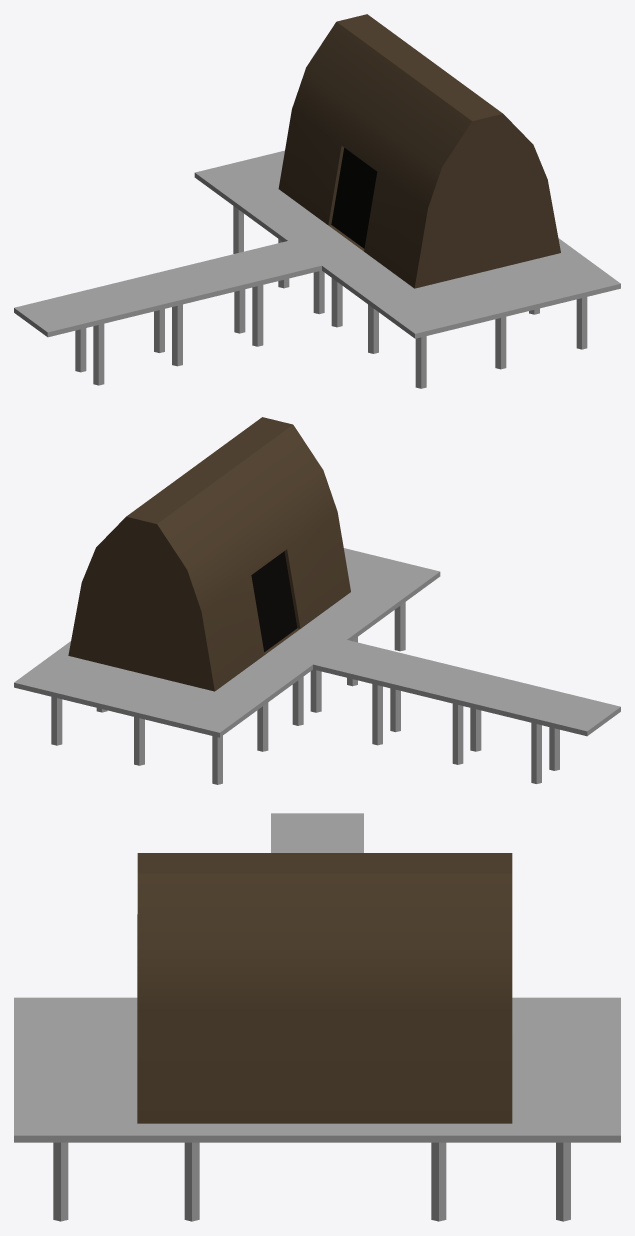
File: HouseOnWater.fbx
3 renders of one model, top to bottom at view 1: azimuth 30°, elevation 25°; view 2: azimuth 150°, elevation 25°; view 3: azimuth 270°, elevation 25°, orthographic. The views are drawn at different scales.
Parts seen in each view (by area): view 1: MainHouse5, WoodPlatform; view 2: MainHouse5, WoodPlatform; view 3: MainHouse5, WoodPlatform.
Part boxes in pixels (x1,y1,x2,y2): MainHouse5: (278,14,560,288); WoodPlatform: (14,150,620,388); MainHouse5: (68,417,350,691); WoodPlatform: (14,548,620,784); MainHouse5: (137,853,512,1123); WoodPlatform: (14,813,620,1221).
Bounding box in the file's own units: 12.07 × 5.41 × 9.6.
